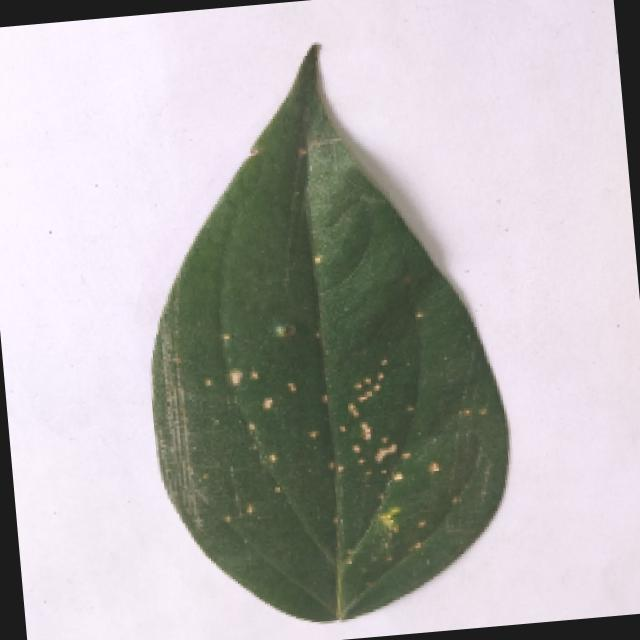pollu-disease: (127, 33, 528, 634)
